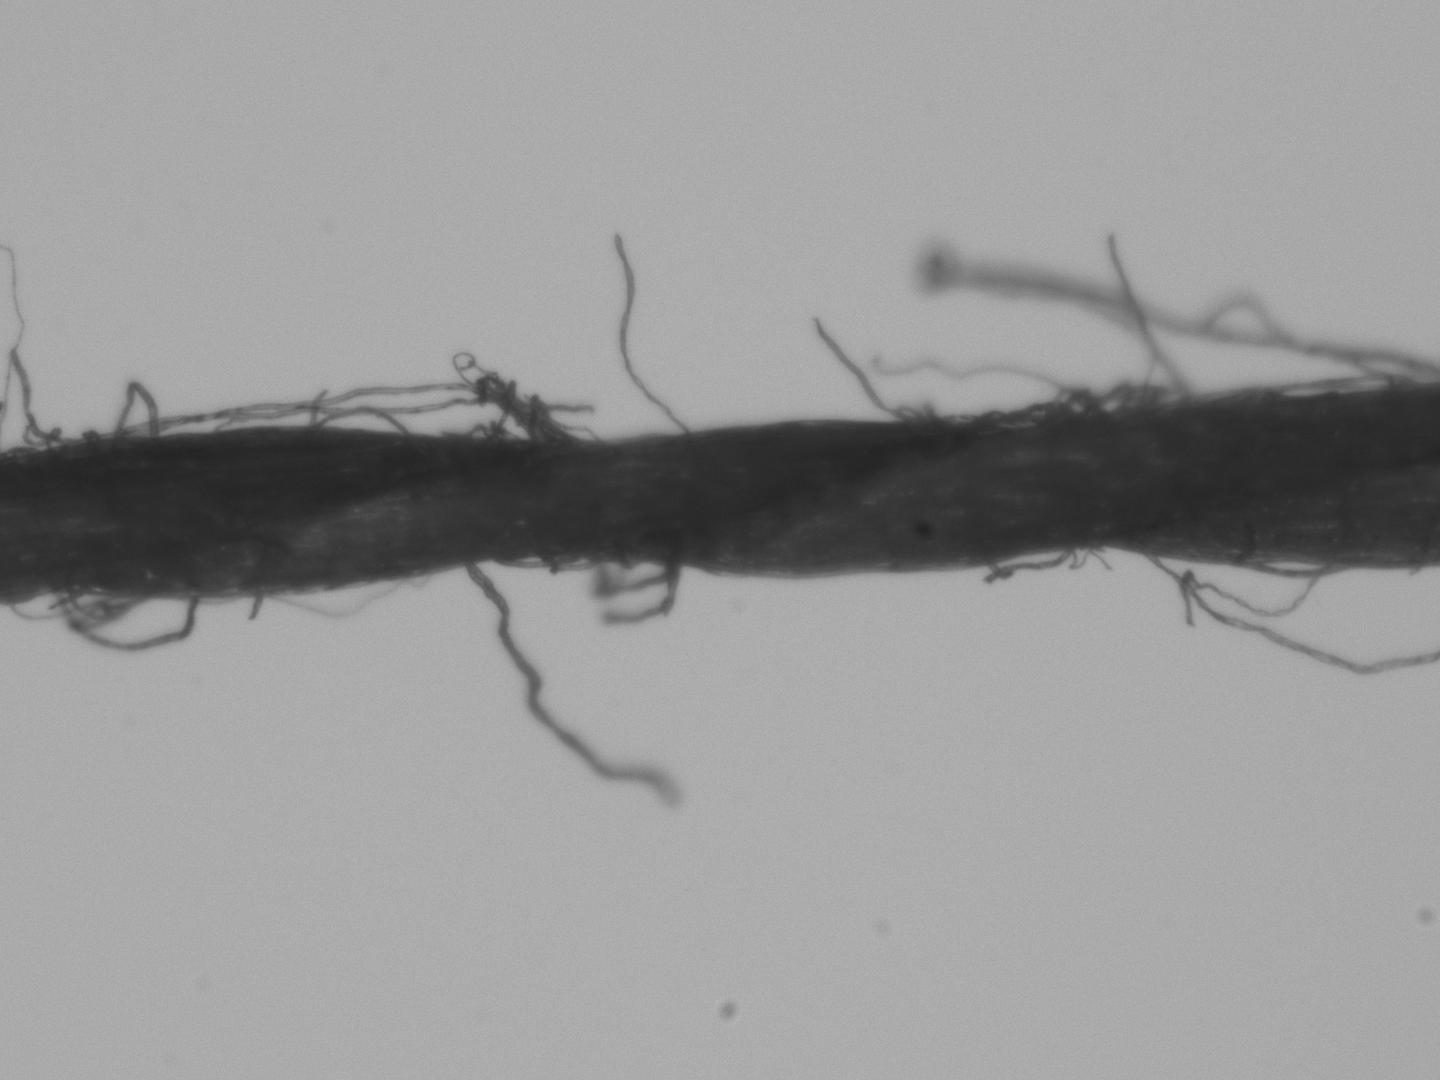loop_fiber: (42, 590, 209, 652), (247, 573, 427, 619), (103, 378, 166, 441)
protruding_fiber: (455, 562, 680, 811), (604, 228, 705, 436), (1100, 220, 1191, 410), (886, 355, 1101, 419), (803, 314, 924, 424)
